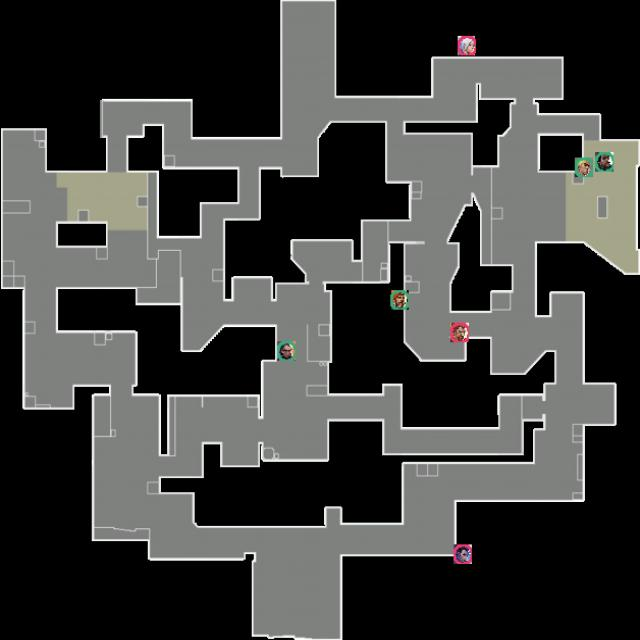atk_breach: (450, 323, 469, 342)
atk_jett: (458, 36, 476, 55)
atk_yoru: (453, 544, 472, 564)
def_brimstone: (390, 290, 409, 310)
def_gekko: (575, 158, 593, 177)
def_harbor: (595, 152, 614, 172)
def_reyna: (277, 341, 296, 361)
